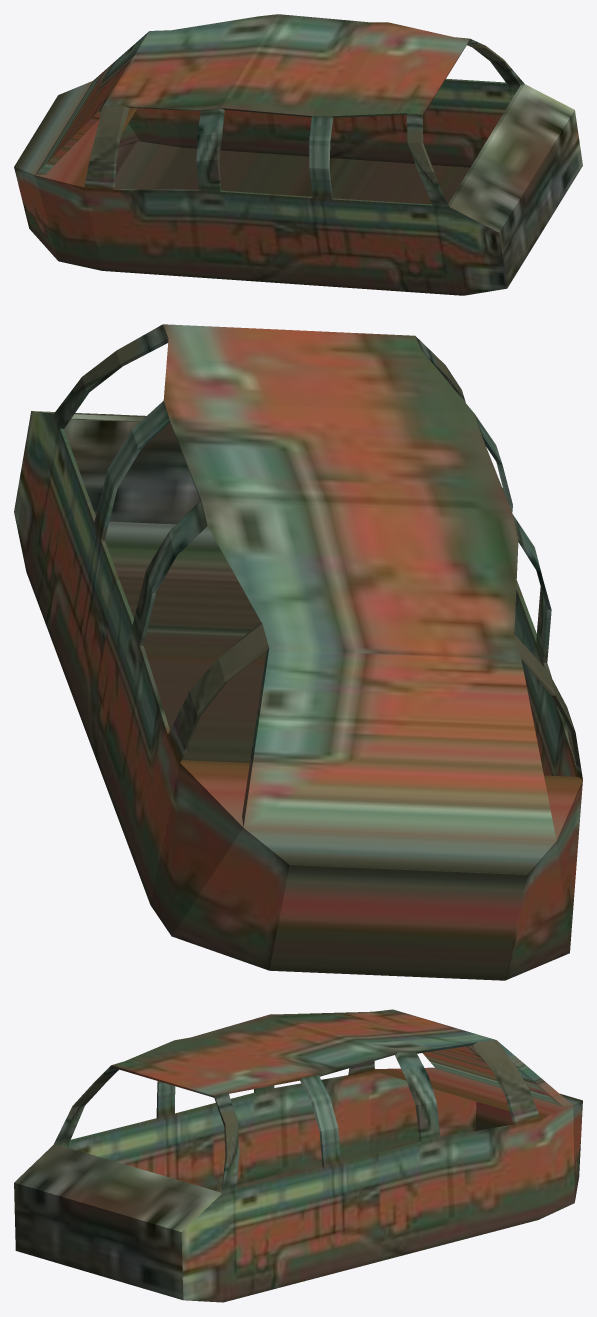
Rendered from carTest.fbx.
3 views of the same model, one above another, from view 1: azimuth 30°, elevation 25°; view 2: azimuth 150°, elevation 25°; view 3: azimuth 270°, elevation 25° (orthographic). The views are drawn at different scales.
Parts seen in each view (by area): view 1: Plane; view 2: Plane; view 3: Plane.
Part boxes in pixels (x1,y1,x2,y2): Plane: [14, 14, 582, 295]; Plane: [14, 324, 582, 980]; Plane: [14, 1009, 582, 1302].
Bounding box in the file's own units: 171 × 81.25 × 182.
1 material, 1 textured.
